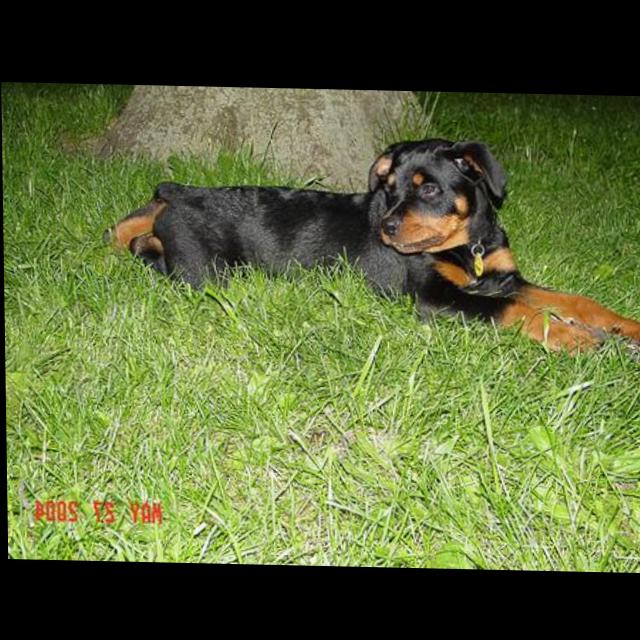rottweiler: (102, 128, 640, 359)
